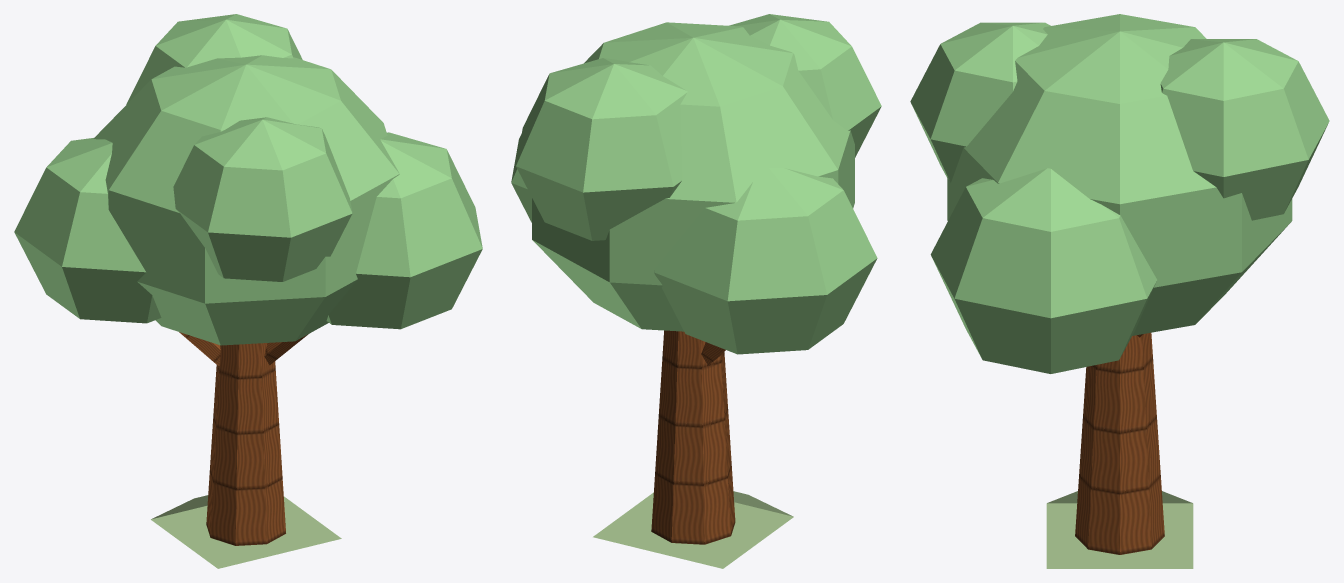
Rendered from allotments-and-community-garden-orchard-tree-328296cc__35167.glb.
3 views of the same model, side by side, from view 1: azimuth 30°, elevation 25°; view 2: azimuth 150°, elevation 25°; view 3: azimuth 270°, elevation 25° (orthographic). The views are drawn at different scales.
Visible parts, largest first — view 1: orchard-tree-leaf, orchard-tree-timber, orchard-tree-grass; view 2: orchard-tree-leaf, orchard-tree-timber, orchard-tree-grass; view 3: orchard-tree-leaf, orchard-tree-timber, orchard-tree-grass.
Boxes of the visible parts, left/top/right/bottom form: orchard-tree-leaf: left=14, top=14, right=482, bottom=345; orchard-tree-timber: left=179, top=332, right=308, bottom=545; orchard-tree-grass: left=151, top=495, right=341, bottom=568; orchard-tree-leaf: left=511, top=14, right=881, bottom=354; orchard-tree-timber: left=651, top=330, right=735, bottom=544; orchard-tree-grass: left=593, top=491, right=793, bottom=568; orchard-tree-leaf: left=910, top=14, right=1329, bottom=373; orchard-tree-timber: left=1075, top=332, right=1164, bottom=554; orchard-tree-grass: left=1046, top=491, right=1193, bottom=568.
Bounding box in the file's own units: 2.74 × 3.25 × 2.43.
Materials: 4 (1 with a texture image).
